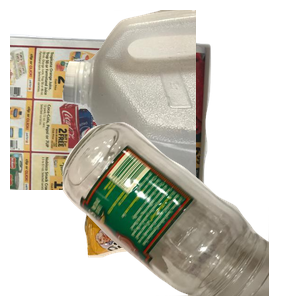glass: (60, 120, 300, 300)
paper: (10, 31, 214, 211)
plastic: (60, 10, 300, 190)
trash: (81, 168, 261, 300)
